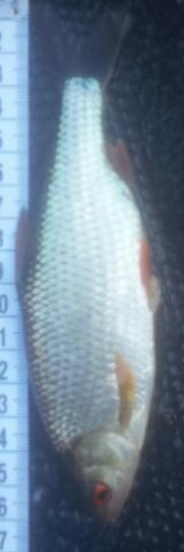Rutilus rutilus: (20, 20, 164, 532)
